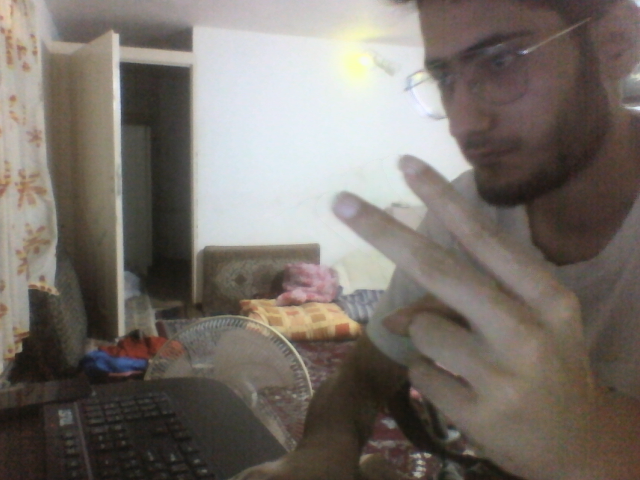Azadi: (329, 151, 600, 475)
sorat: (416, 2, 639, 208)
